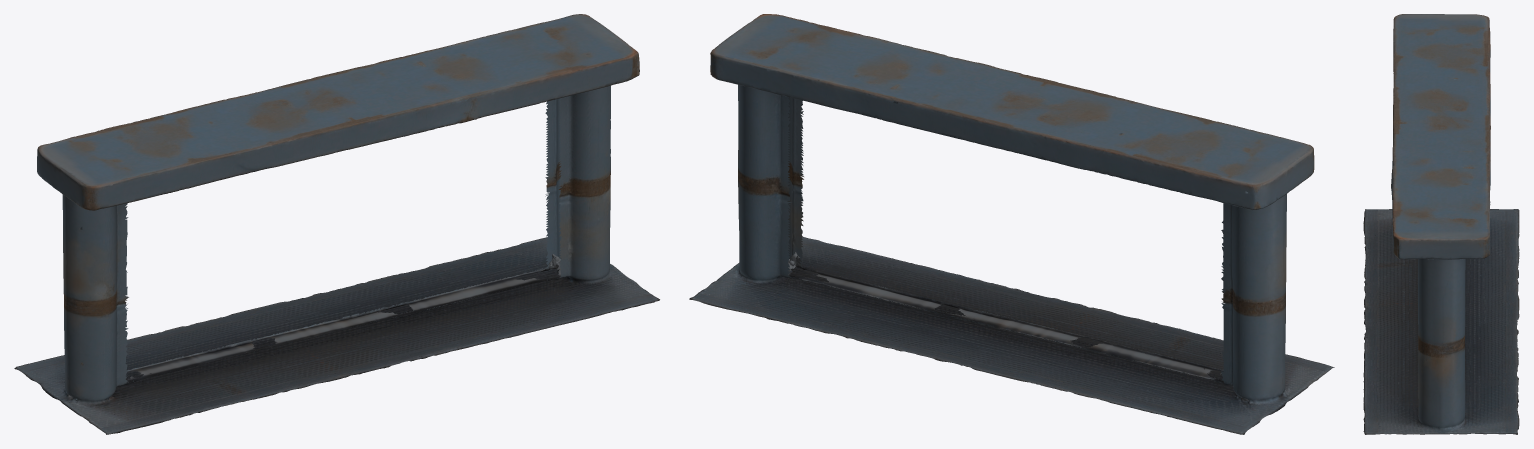
The model's file is Garage_Frame.fbx.
3 renders of one model, left to right at view 1: azimuth 30°, elevation 25°; view 2: azimuth 150°, elevation 25°; view 3: azimuth 270°, elevation 25°, orthographic. The views are drawn at different scales.
Visible parts, largest first — view 1: Garage_Frame; view 2: Garage_Frame; view 3: Garage_Frame.
Part boxes in pixels (x1,y1,x2,y2): Garage_Frame: (14, 14, 659, 434); Garage_Frame: (689, 14, 1334, 434); Garage_Frame: (1363, 14, 1519, 434).
Bounding box in the file's own units: 200 × 80.93 × 58.26.
1 material, 1 textured.
